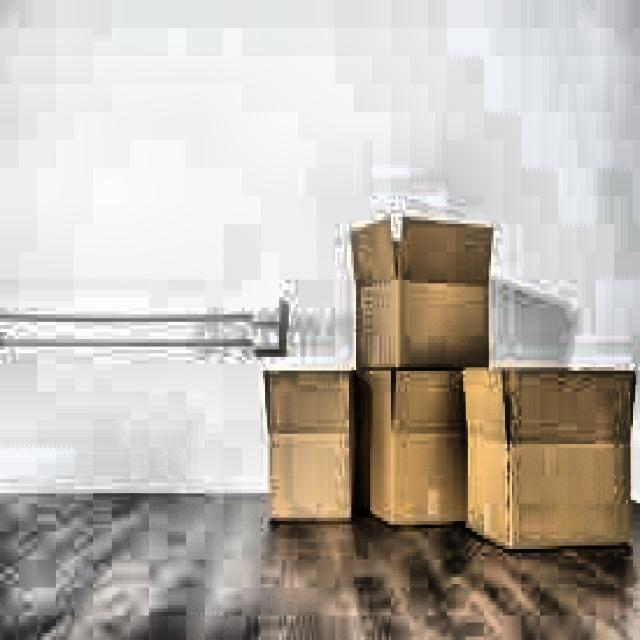cardboard: (460, 363, 636, 550), (263, 367, 361, 521)
